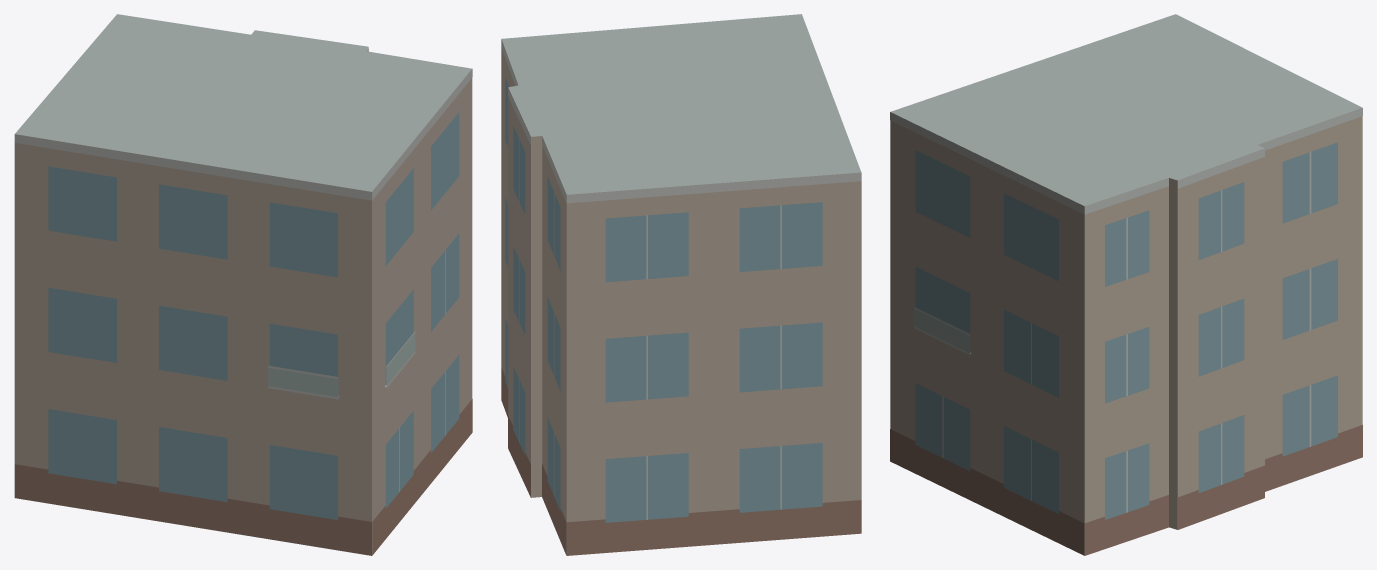
File: survey-upis-32460328.glb
3 renders of one model, left to right at view 1: azimuth 30°, elevation 25°; view 2: azimuth 150°, elevation 25°; view 3: azimuth 270°, elevation 25°, orthographic. The views are drawn at different scales.
Visible parts, largest first — view 1: survey-upis-32460328.tmp; view 2: survey-upis-32460328.tmp; view 3: survey-upis-32460328.tmp.
Boxes of the visible parts, x1,y1,x2,y2 form: survey-upis-32460328.tmp: (14,14,472,555); survey-upis-32460328.tmp: (501,14,861,555); survey-upis-32460328.tmp: (890,14,1362,555).
Size of the model in its own units: 12.04 by 10.2 by 12.51.
